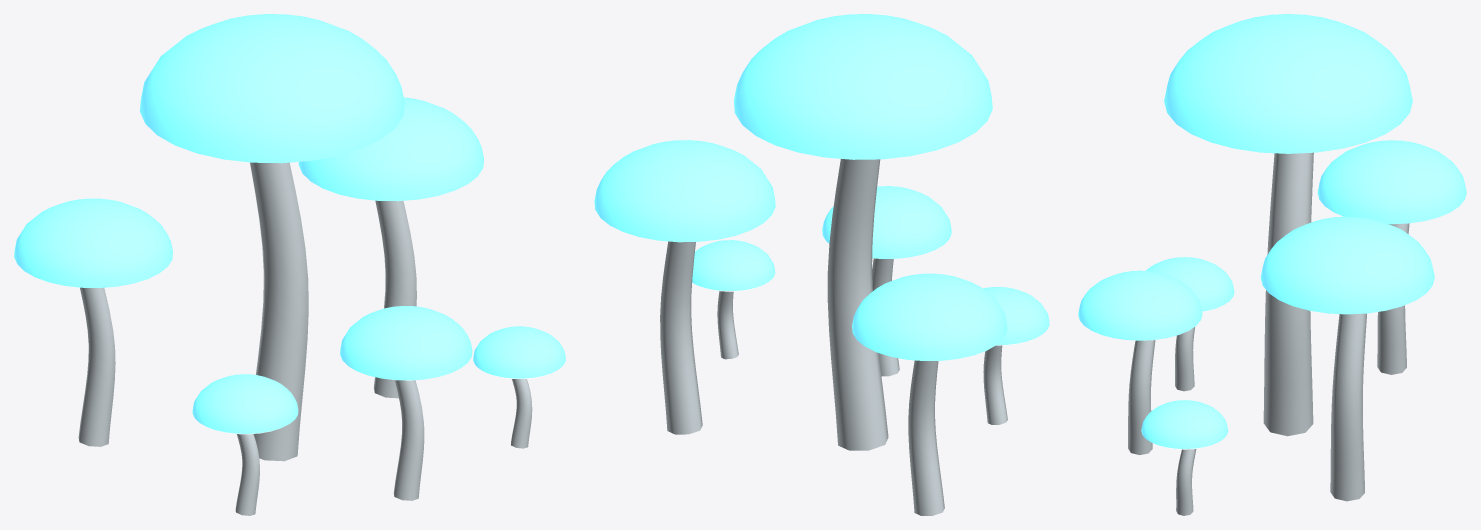
Rendered from E05_GlowMushroom_Cluster.glb.
3 renders of one model, left to right at view 1: azimuth 30°, elevation 25°; view 2: azimuth 150°, elevation 25°; view 3: azimuth 270°, elevation 25°, orthographic. The views are drawn at different scales.
Parts seen in each view (by area): view 1: E05_GlowMushroom_Cluster_Mesh; view 2: E05_GlowMushroom_Cluster_Mesh; view 3: E05_GlowMushroom_Cluster_Mesh.
Boxes of the visible parts, <box> form: E05_GlowMushroom_Cluster_Mesh: <box>14,14,565,515</box>; E05_GlowMushroom_Cluster_Mesh: <box>594,14,1049,515</box>; E05_GlowMushroom_Cluster_Mesh: <box>1078,14,1466,515</box>.
Bounding box in the file's own units: 1.55 × 1.47 × 1.31.
